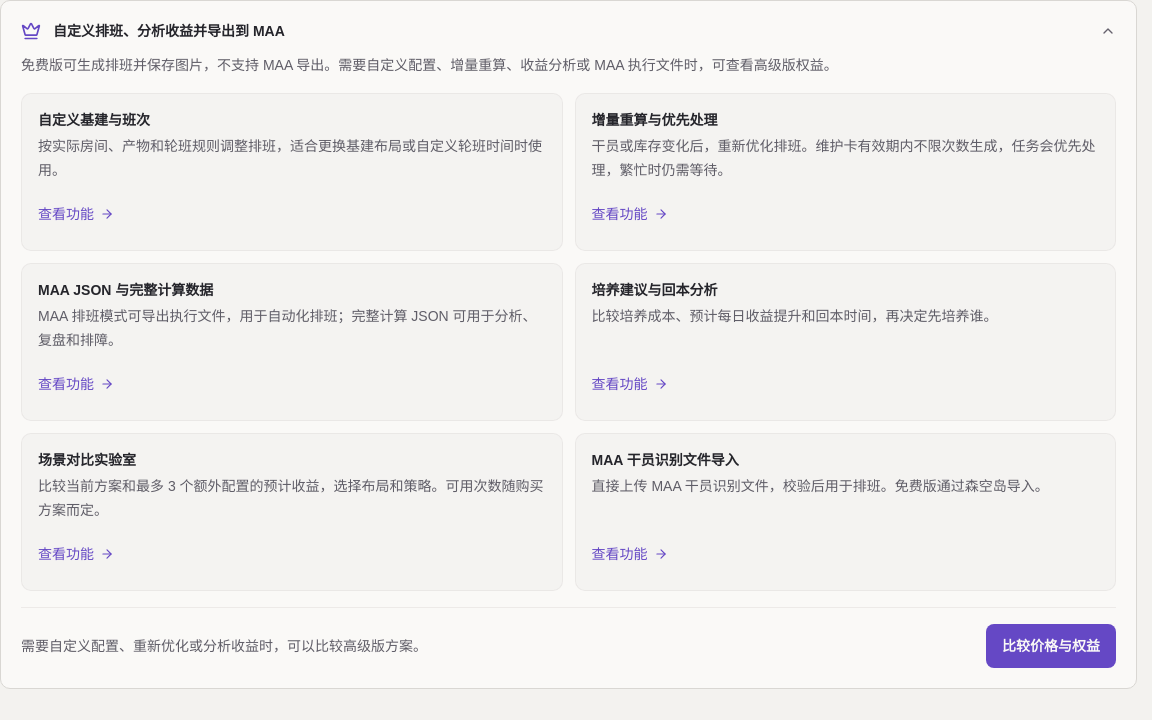
Test: shows benefits by default and offers a working preview for every feature
Click the button with aria-label "查看功能：自定义基建与班次" at (76, 214), box x1=38 y1=194 x2=114 y2=234
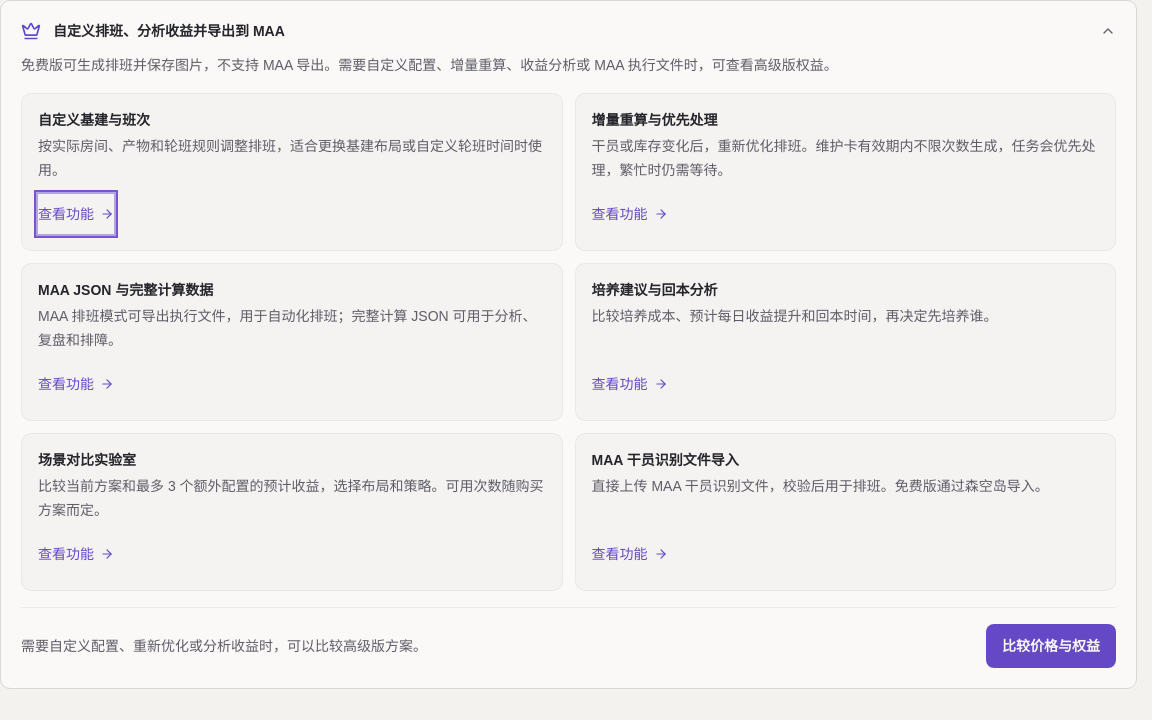
Click the button with aria-label "查看功能：场景对比实验室" at (76, 554), box x1=38 y1=534 x2=114 y2=574
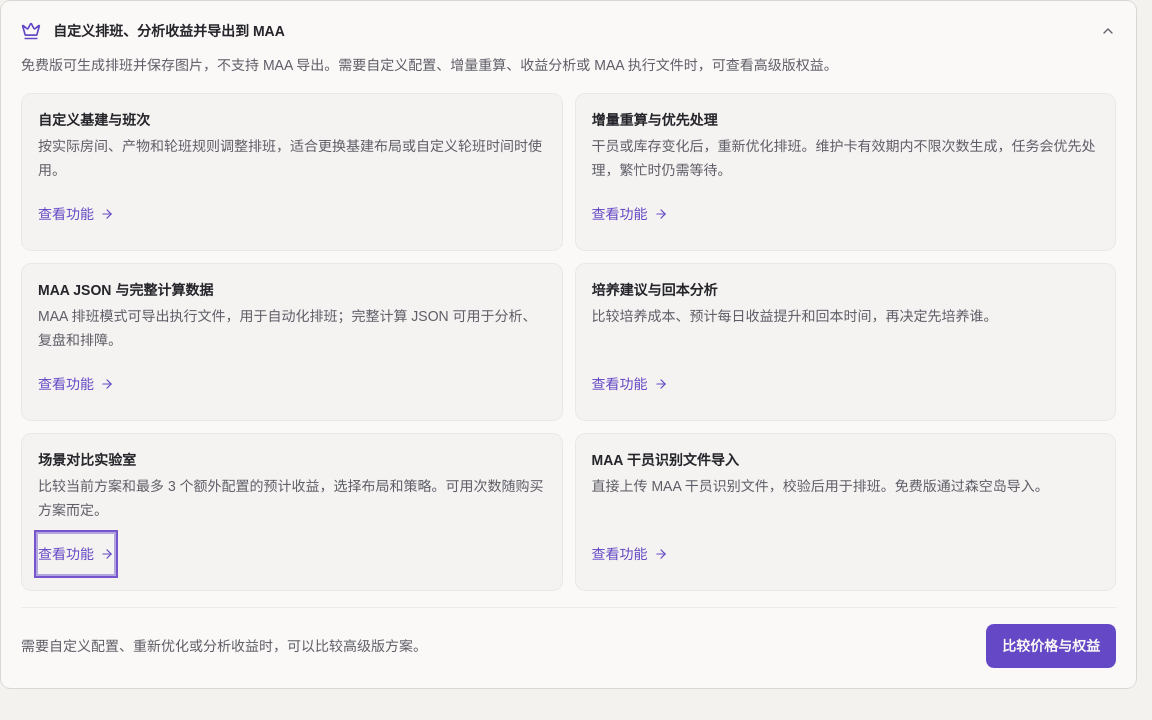
Click the button with aria-label "查看功能：增量重算与优先处理" at (630, 214), box x1=592 y1=194 x2=668 y2=234
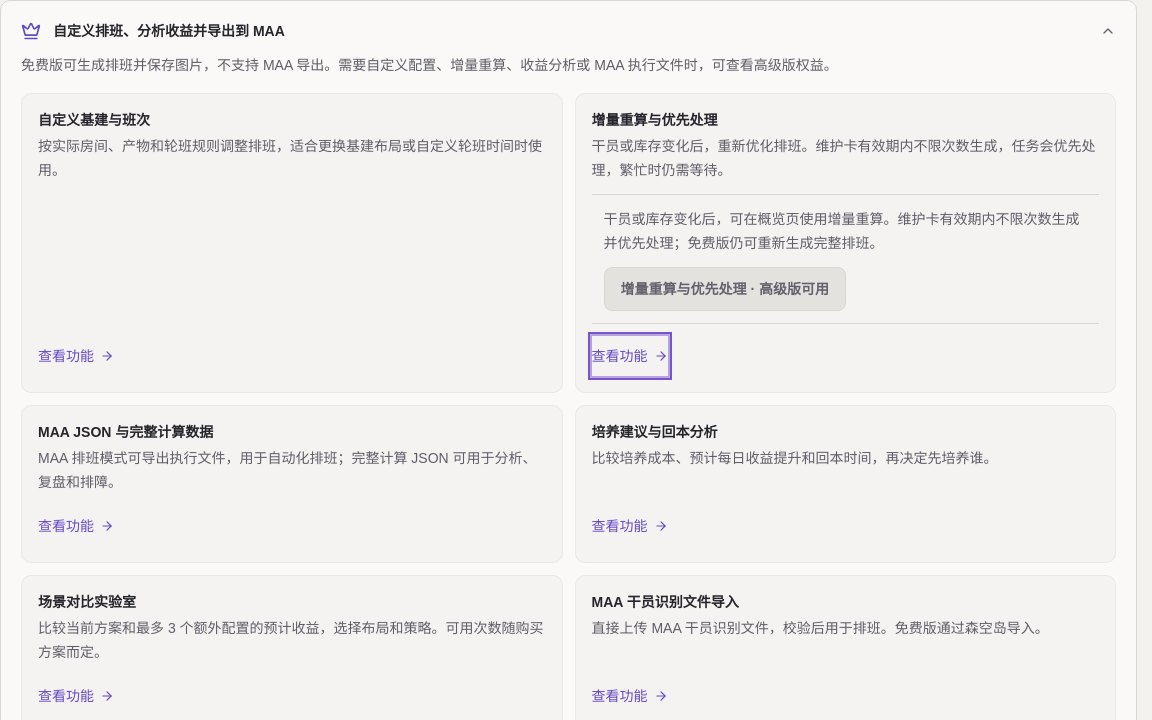
Now the button with aria-label "查看功能：增量重算与优先处理" is expanded
Now the button "增量重算与优先处理 · 高级版可用" is disabled, box x1=604 y1=267 x2=846 y2=311
Click the button with aria-label "查看功能：增量重算与优先处理" at (630, 356), box x1=592 y1=336 x2=668 y2=376
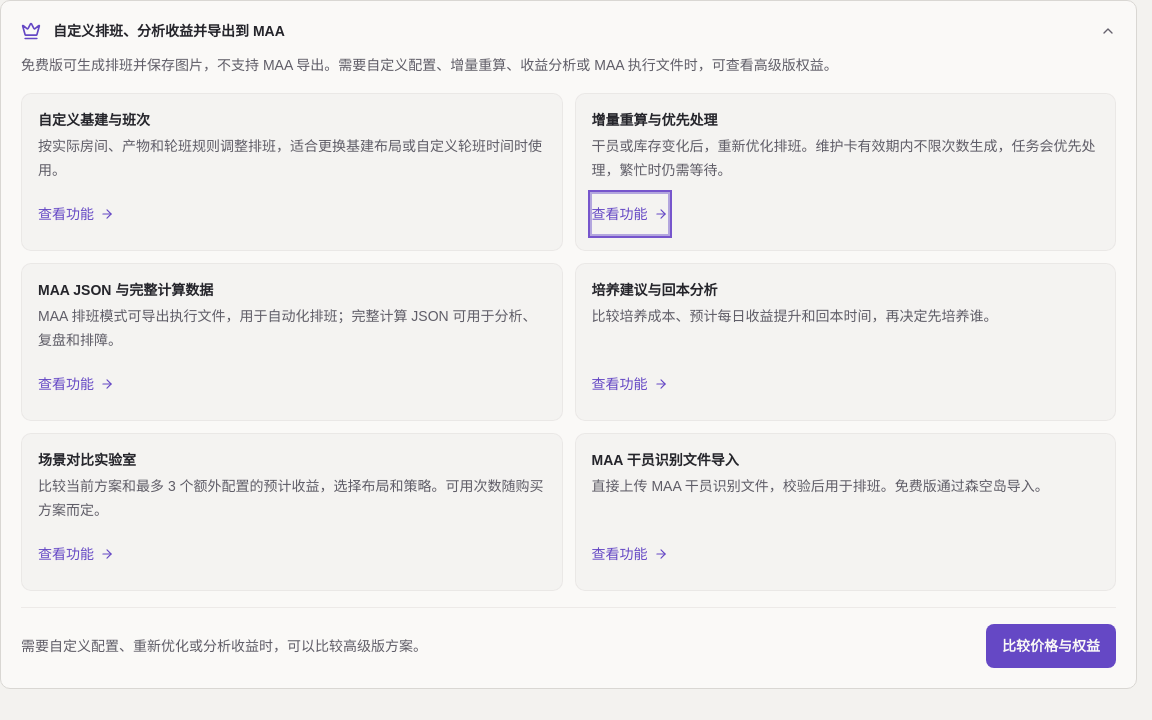
Now the button with aria-label "查看功能：增量重算与优先处理" is collapsed, box x1=592 y1=194 x2=668 y2=234
Click the button with aria-label "查看功能：MAA 干员识别文件导入" at (630, 554), box x1=592 y1=534 x2=668 y2=574
(page scrolled)
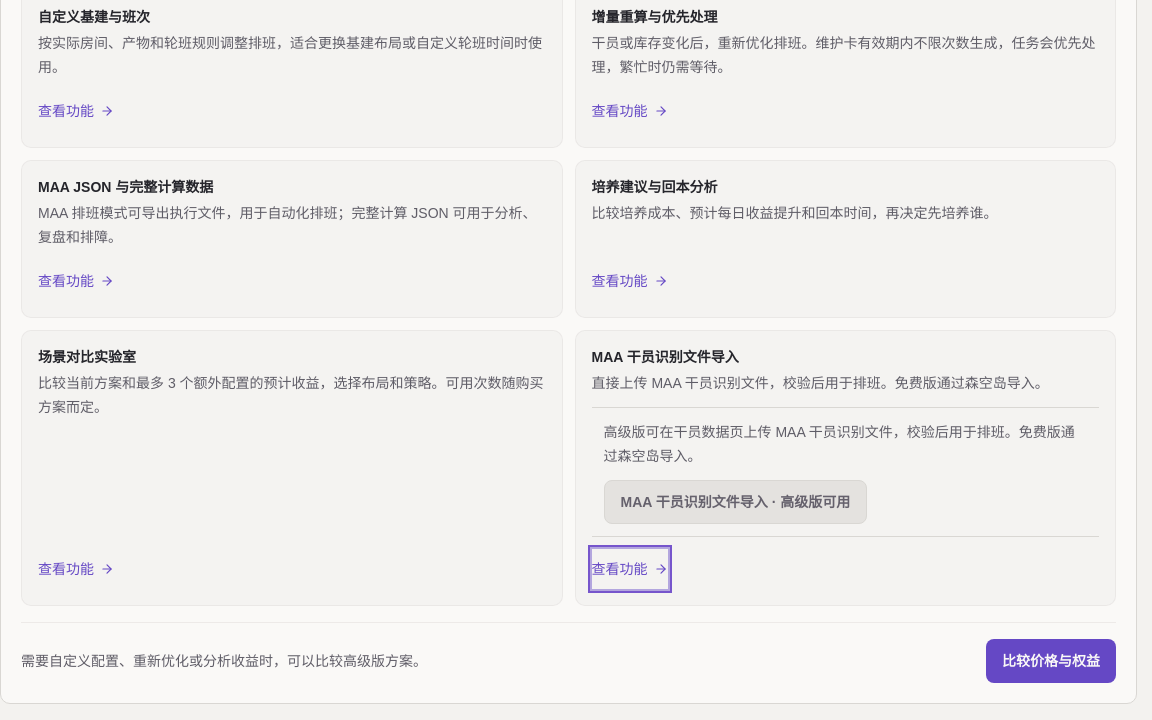
Now the button "MAA 干员识别文件导入 · 高级版可用" is disabled, box x1=604 y1=480 x2=867 y2=524
